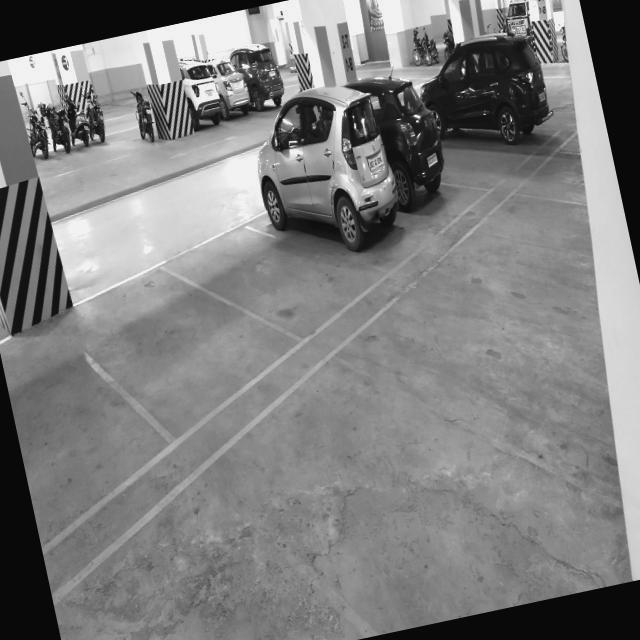car: (212, 87, 414, 308), (275, 59, 437, 197), (404, 32, 574, 149)
free: (329, 285, 640, 632), (302, 222, 612, 512), (55, 245, 304, 445), (27, 440, 269, 640), (163, 217, 408, 356)
